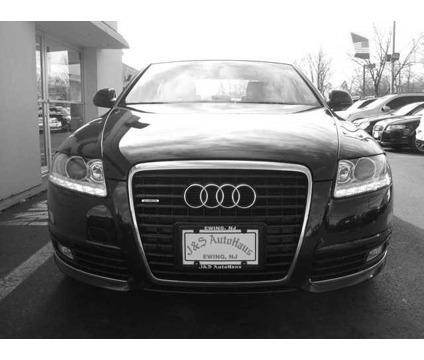car: (44, 56, 397, 306)
